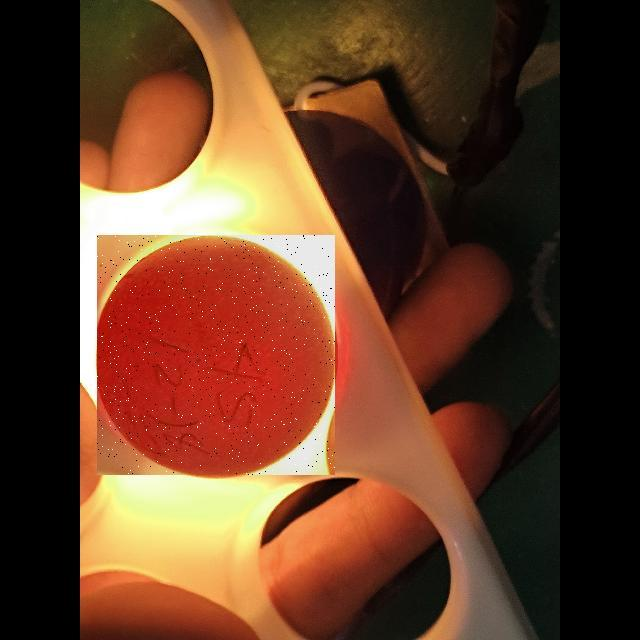Infertile: (97, 235, 335, 475)
